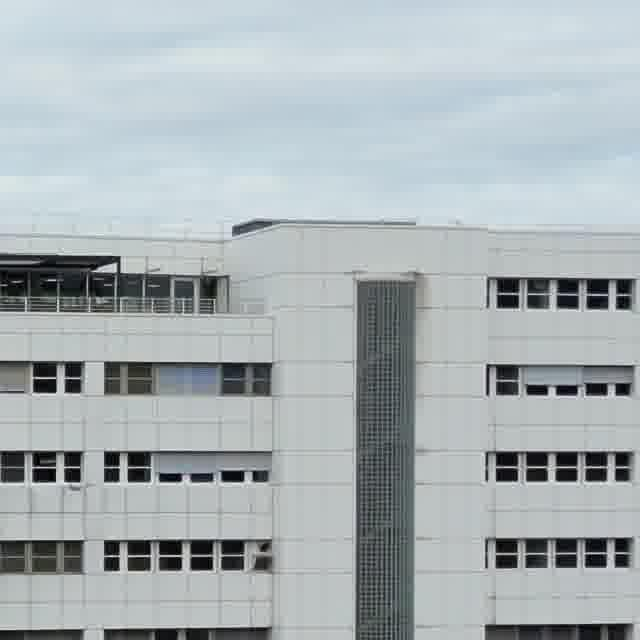Drohne: (66, 483, 91, 490)
